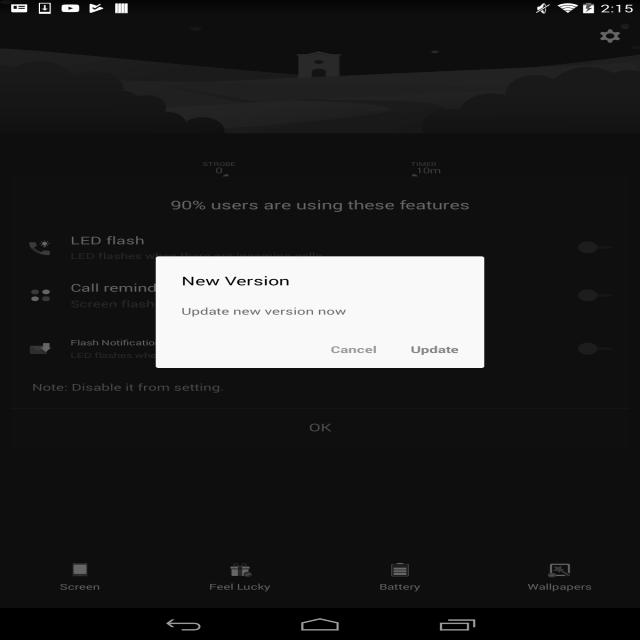ImageButton: (594, 27, 624, 46)
ImageView: (286, 53, 352, 85), (62, 561, 101, 581), (23, 239, 56, 260), (24, 338, 57, 358), (382, 562, 416, 579), (27, 285, 54, 304)
Switch: (564, 342, 630, 361), (579, 238, 625, 256)
TextView: (166, 197, 480, 218), (27, 379, 229, 396), (173, 302, 361, 320), (175, 273, 296, 289), (68, 278, 151, 296), (70, 233, 149, 249), (300, 419, 347, 437), (522, 582, 592, 594), (405, 342, 464, 356), (327, 339, 378, 355), (205, 584, 279, 592)
